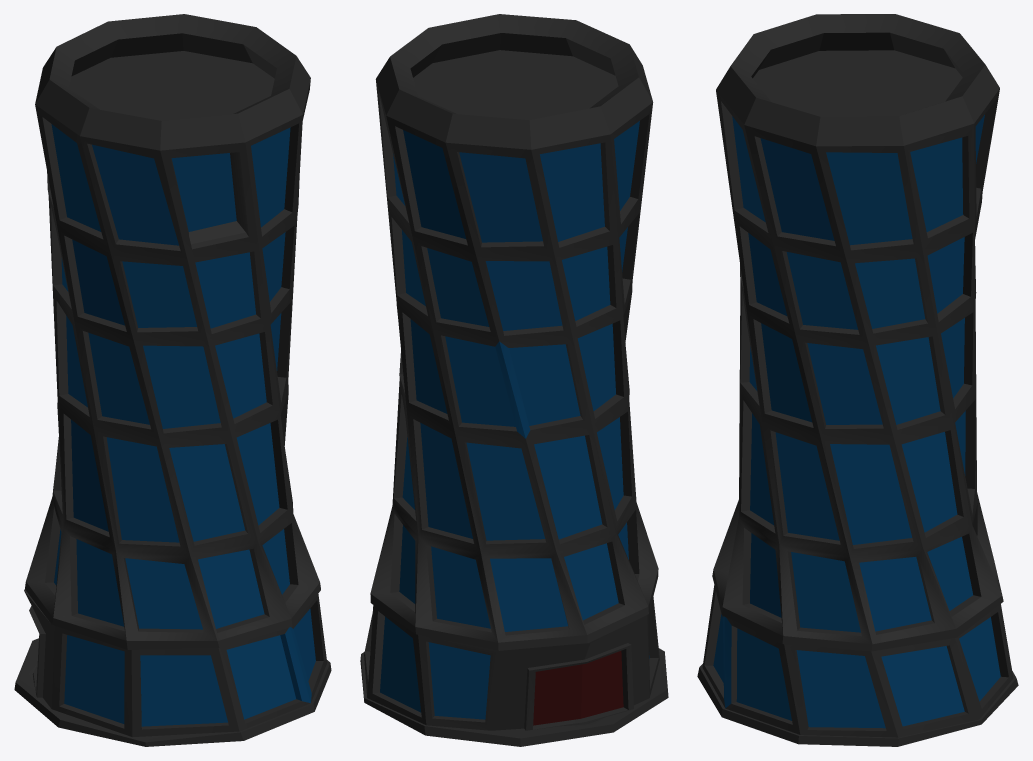
Rendered from Osc Tower.dae.
The picture shows the model from 3 angles, left to right: view 1: azimuth 30°, elevation 25°; view 2: azimuth 150°, elevation 25°; view 3: azimuth 270°, elevation 25°; orthographic projection.
Visible parts, largest first — view 1: the_tower1FBXASC058pCylinder1; view 2: the_tower1FBXASC058pCylinder1; view 3: the_tower1FBXASC058pCylinder1.
Boxes of the visible parts, box(x1,y1,x2,y2) form: the_tower1FBXASC058pCylinder1: box(14, 14, 331, 746); the_tower1FBXASC058pCylinder1: box(360, 14, 668, 746); the_tower1FBXASC058pCylinder1: box(697, 14, 1018, 746).
Size of the model in its own units: 4.96 by 10.81 by 5.11.
